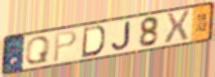8: (137, 15, 160, 48)
D: (80, 24, 106, 59)
J: (110, 20, 132, 52)
P: (52, 29, 79, 64)
Q: (24, 35, 52, 65)
X: (163, 8, 192, 46)
